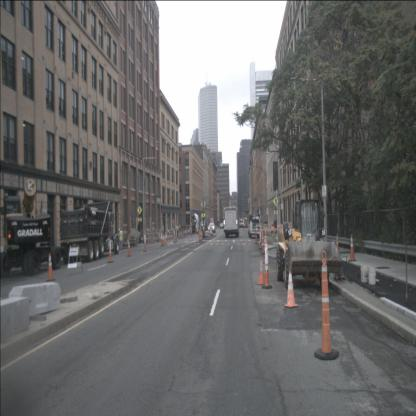movable_object-trafficcone: (314, 249, 339, 360), (284, 269, 299, 308), (262, 237, 272, 289), (46, 252, 56, 282), (348, 234, 357, 262), (257, 256, 266, 284), (107, 232, 114, 263), (334, 233, 342, 259), (260, 228, 266, 255), (127, 238, 132, 257), (258, 228, 262, 249), (143, 234, 147, 252), (254, 228, 258, 244), (161, 235, 165, 248), (157, 230, 161, 242), (198, 230, 202, 242), (149, 232, 152, 244), (152, 232, 155, 243), (173, 231, 176, 242), (164, 236, 167, 246), (176, 228, 178, 243), (209, 226, 212, 236)
vehicle-bus-rigid: (223, 206, 240, 238)
vehicle-car: (199, 220, 208, 232), (208, 223, 216, 234), (239, 219, 244, 228), (243, 221, 248, 228), (220, 222, 224, 229)
vehicle-truck: (59, 199, 121, 265), (248, 215, 262, 238), (189, 212, 200, 235)
